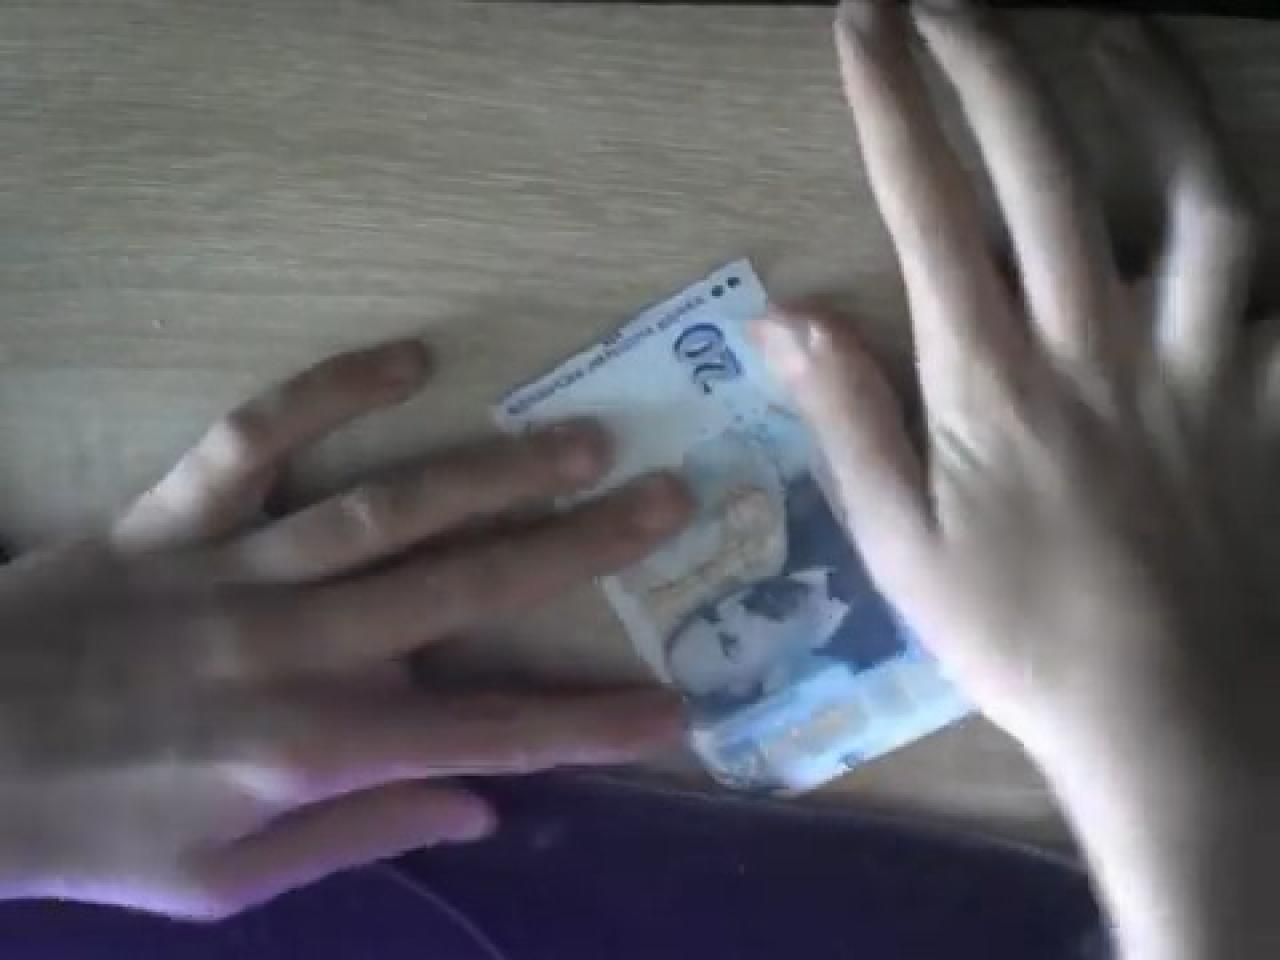20leva: (491, 256, 816, 491)
